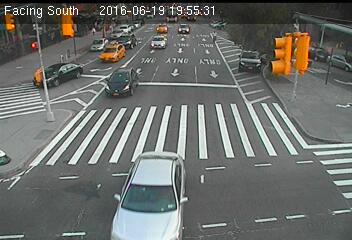neg: (123, 32, 139, 54)
